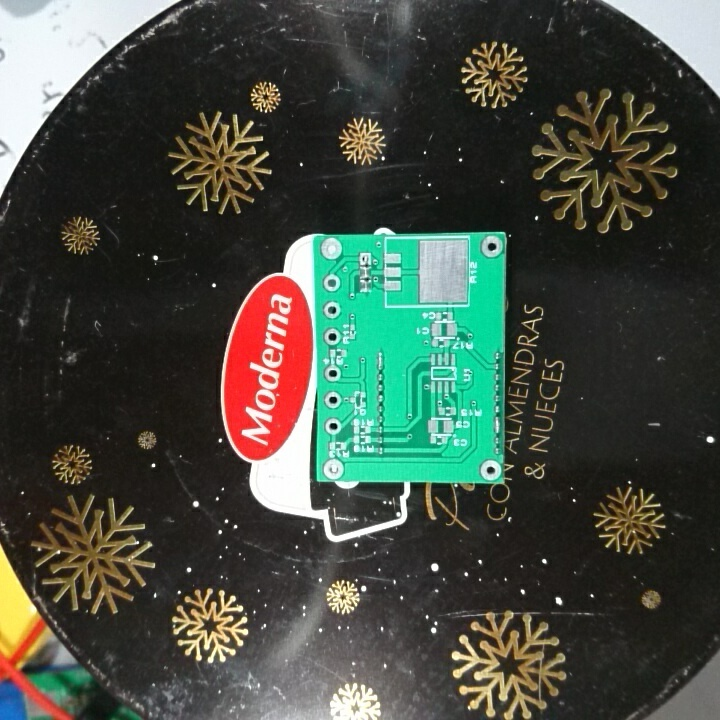F: (479, 233, 504, 262), (319, 236, 343, 263), (476, 457, 501, 482), (321, 455, 347, 479), (321, 323, 343, 349), (321, 300, 345, 323), (321, 272, 342, 296), (321, 361, 341, 386), (323, 416, 344, 438), (322, 389, 342, 411), (356, 250, 374, 267)
P: (375, 349, 387, 374), (492, 415, 503, 437)
